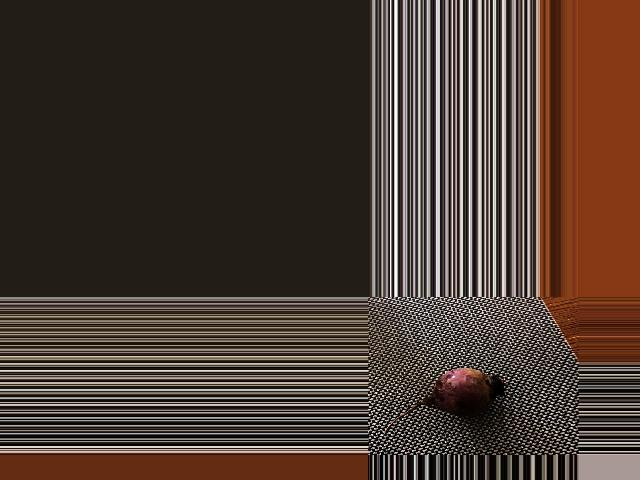beet: (383, 369, 508, 435)
